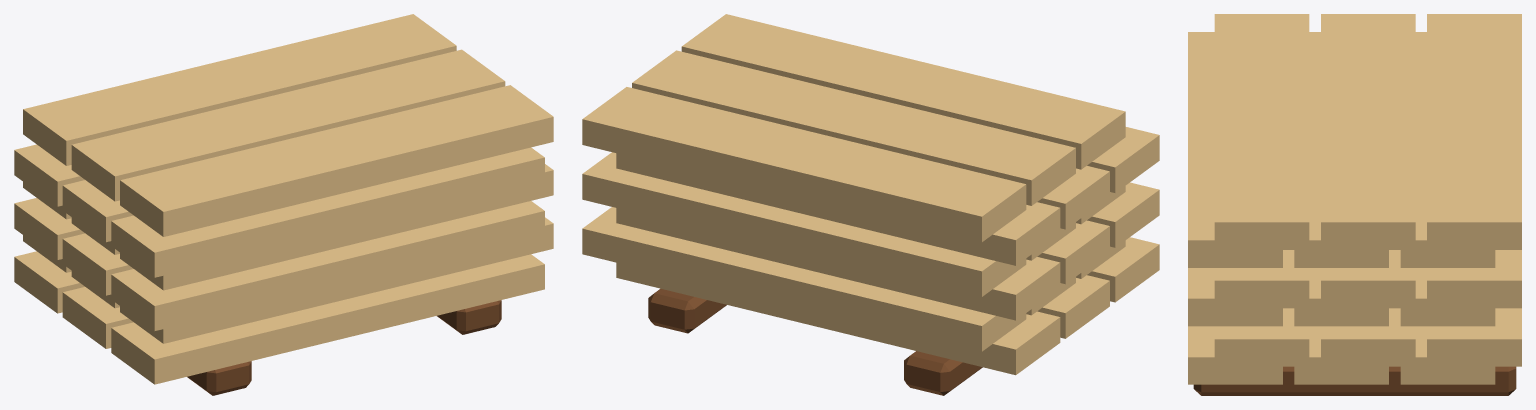
File: prop_planks_l.fbx
The picture shows the model from 3 angles, left to right: view 1: azimuth 30°, elevation 25°; view 2: azimuth 150°, elevation 25°; view 3: azimuth 270°, elevation 25°; orthographic projection. The views are drawn at different scales.
Parts seen in each view (by area): view 1: prop_planks_l; view 2: prop_planks_l; view 3: prop_planks_l.
Boxes of the visible parts, x1,y1,x2,y2 form: prop_planks_l: (14,14,553,395); prop_planks_l: (582,14,1159,395); prop_planks_l: (1188,14,1521,395).
Size of the model in its own units: 0.3288 by 0.1452 by 0.2112.
